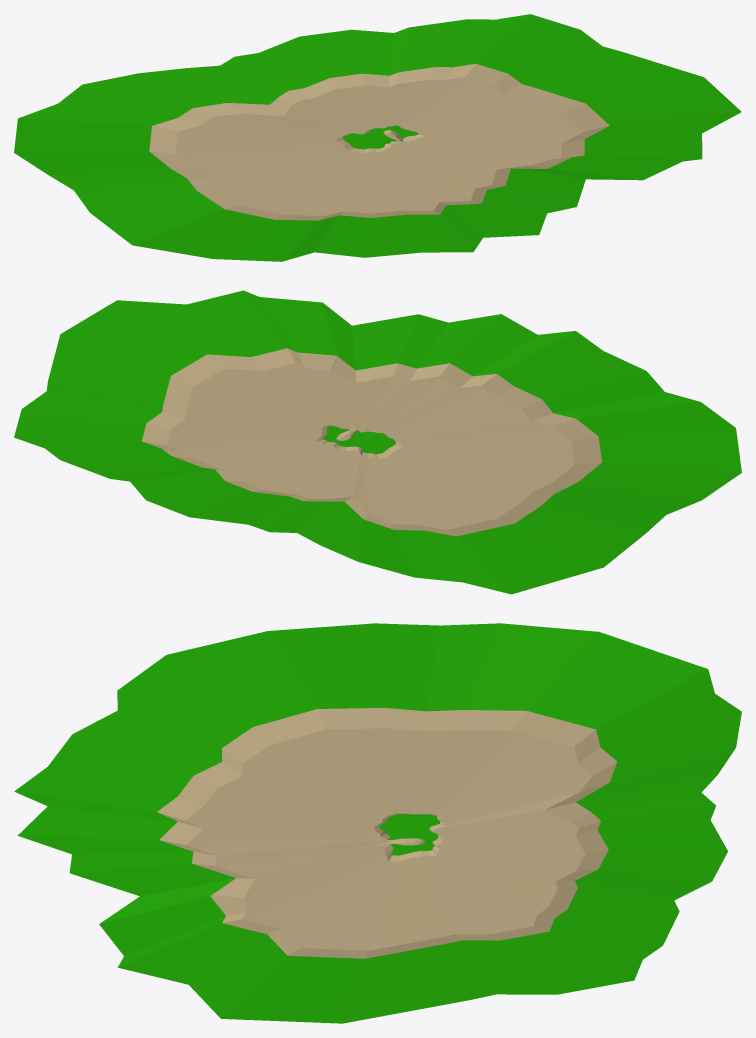
The model's file is island terrain.FBX.
3 views of the same model, one above another, from view 1: azimuth 30°, elevation 25°; view 2: azimuth 150°, elevation 25°; view 3: azimuth 270°, elevation 25° (orthographic). The views are drawn at different scales.
Visible parts, largest first — view 1: background, ground; view 2: background, ground; view 3: background, ground.
Boxes of the visible parts, x1,y1,x2,y2 form: background: (14, 14, 741, 261); ground: (343, 125, 418, 149); background: (14, 290, 741, 594); ground: (322, 425, 395, 454); background: (14, 623, 741, 1023); ground: (379, 814, 439, 855).
Bounding box in the file's own units: 21678 × 524 × 16817.
